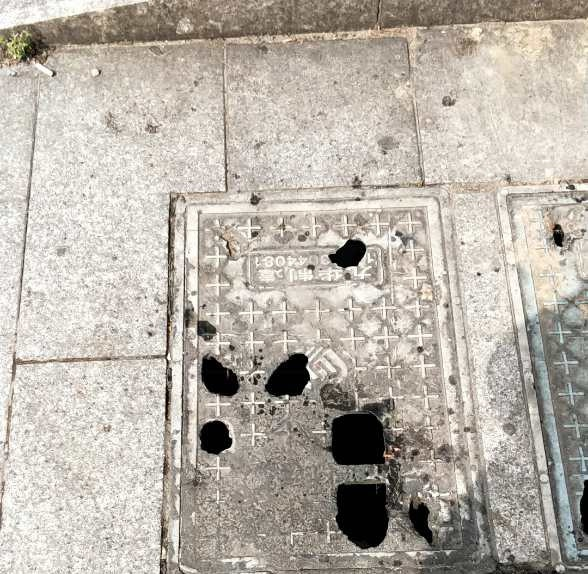broke: (166, 199, 486, 574)
